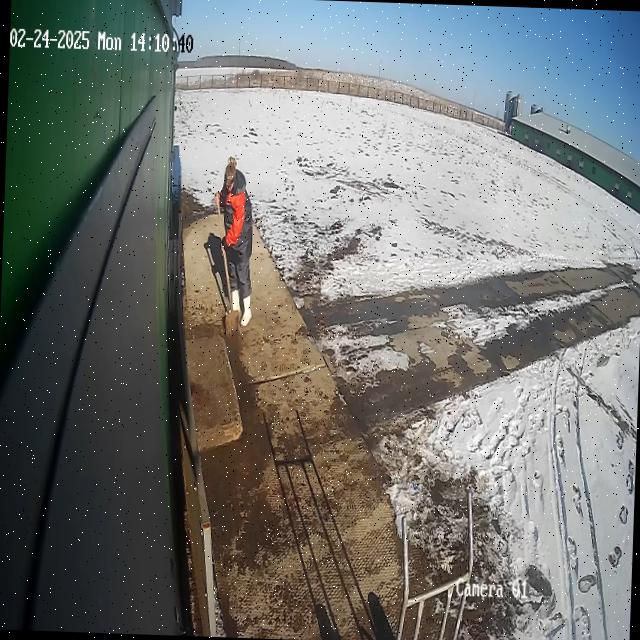Red uniform: (208, 154, 258, 330)
